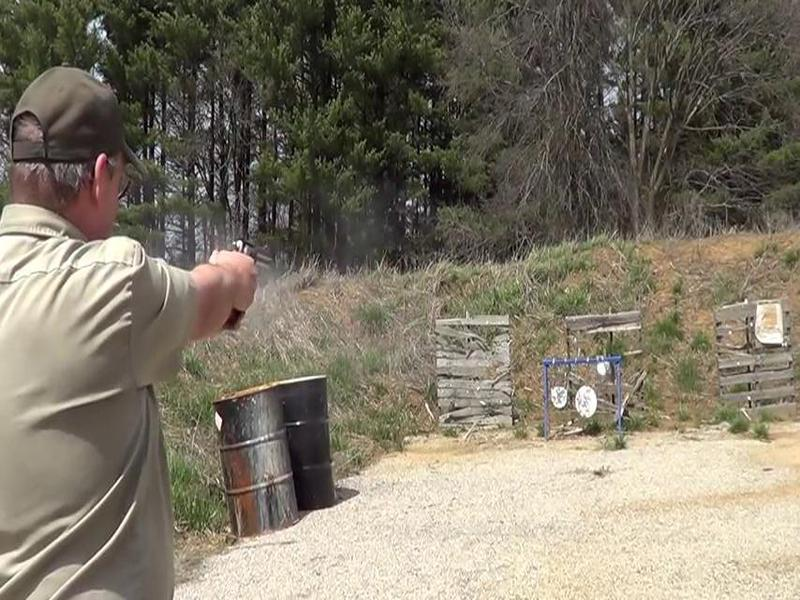Revolver: (208, 223, 305, 295)
